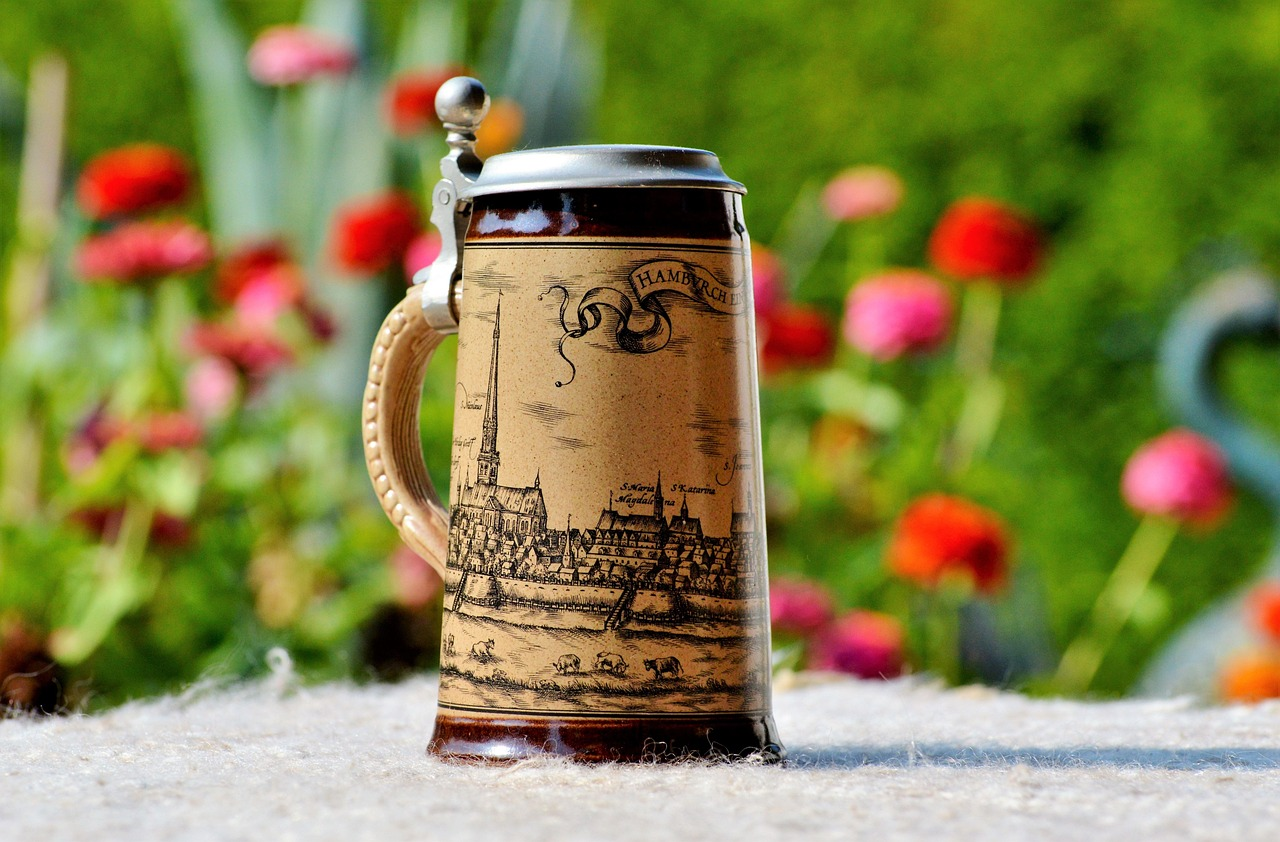mug: (251, 111, 870, 794)
